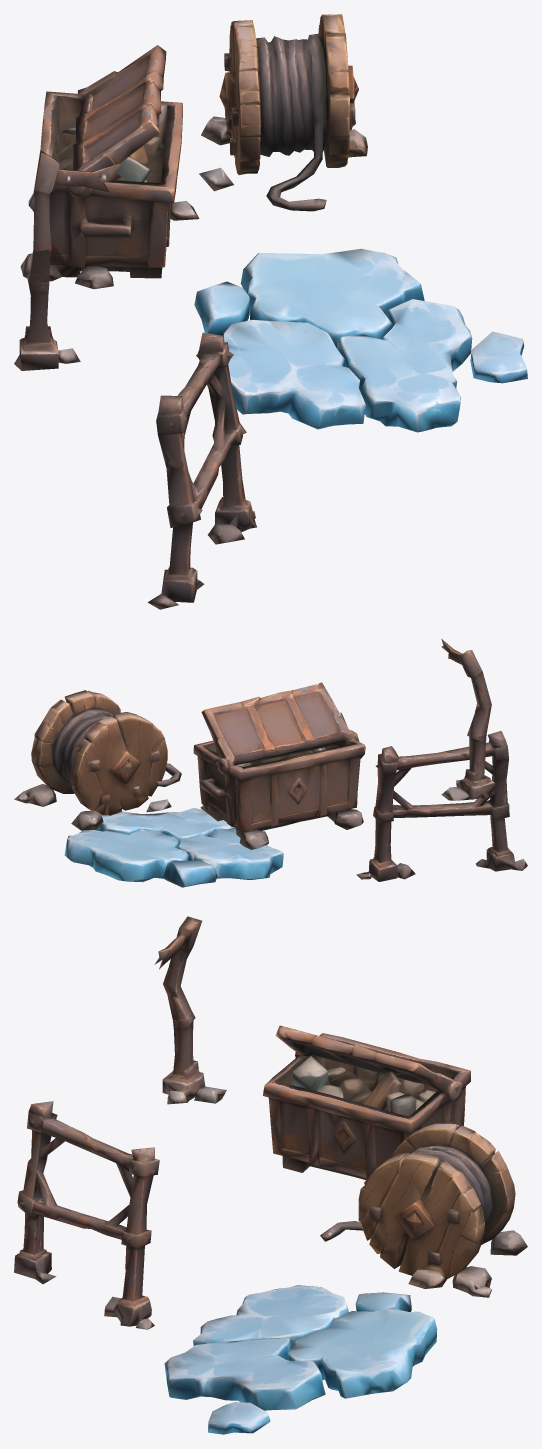
File: room_assetspack3.glb
The picture shows the model from 3 angles, top to bottom: view 1: azimuth 30°, elevation 25°; view 2: azimuth 150°, elevation 25°; view 3: azimuth 270°, elevation 25°; orthographic projection. The views are drawn at different scales.
Visible parts, largest first — view 1: tripo_node_bc9b2306-ec00-48f6-bae9-e363dd65d600; view 2: tripo_node_bc9b2306-ec00-48f6-bae9-e363dd65d600; view 3: tripo_node_bc9b2306-ec00-48f6-bae9-e363dd65d600.
Part boxes in pixels (x1,y1,x2,y2): tripo_node_bc9b2306-ec00-48f6-bae9-e363dd65d600: (14,14,527,609); tripo_node_bc9b2306-ec00-48f6-bae9-e363dd65d600: (14,639,527,887); tripo_node_bc9b2306-ec00-48f6-bae9-e363dd65d600: (14,916,527,1434).
Size of the model in its own units: 1 by 0.6779 by 0.9429.
1 material, 1 textured.
